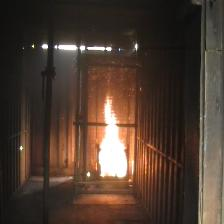fire: (99, 94, 127, 178)
